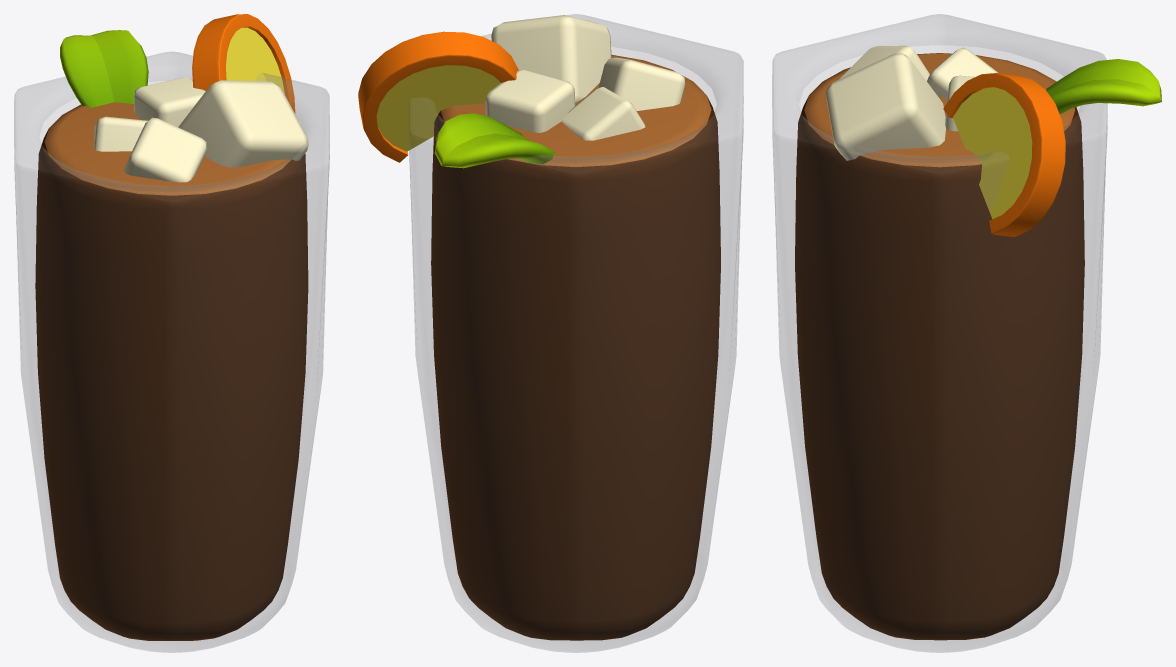
Rendered from SM_İceCoffeMug_01a.fbx.
The picture shows the model from 3 angles, left to right: view 1: azimuth 30°, elevation 25°; view 2: azimuth 150°, elevation 25°; view 3: azimuth 270°, elevation 25°; orthographic projection. The views are drawn at different scales.
Parts seen in each view (by area): view 1: SM_İceCoffeMug_01a; view 2: SM_İceCoffeMug_01a; view 3: SM_İceCoffeMug_01a.
Part boxes in pixels (x1,y1,x2,y2): SM_İceCoffeMug_01a: [14, 14, 329, 652]; SM_İceCoffeMug_01a: [358, 14, 743, 652]; SM_İceCoffeMug_01a: [772, 14, 1161, 652].
Size of the model in its own units: 43.85 by 73.45 by 43.98.
